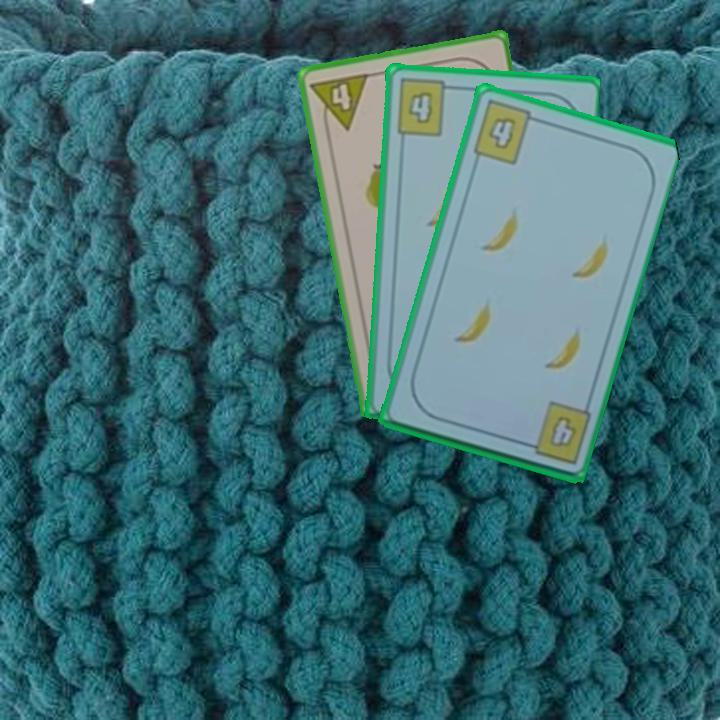4b: (469, 96, 543, 168), (517, 398, 593, 467), (393, 75, 458, 139)
4p: (307, 69, 372, 136)
